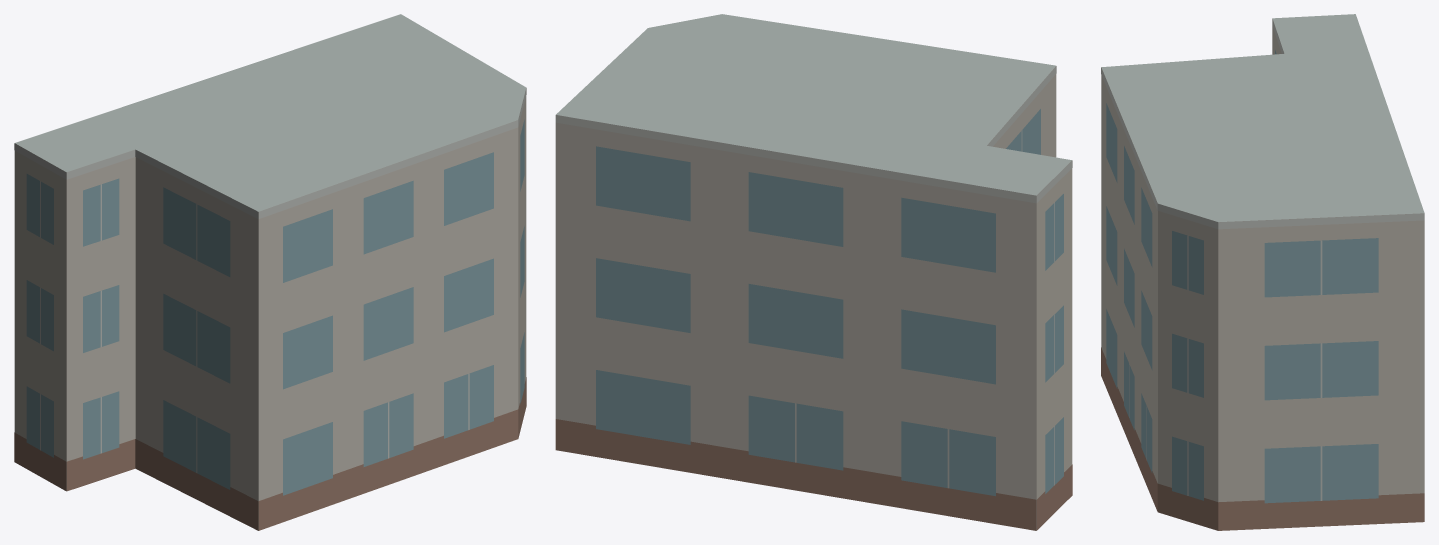
The model's file is survey-upis-32609861.glb.
3 views of the same model, side by side, from view 1: azimuth 30°, elevation 25°; view 2: azimuth 150°, elevation 25°; view 3: azimuth 270°, elevation 25° (orthographic). The views are drawn at different scales.
Visible parts, largest first — view 1: survey-upis-32609861.tmp; view 2: survey-upis-32609861.tmp; view 3: survey-upis-32609861.tmp.
Part boxes in pixels (<box>): survey-upis-32609861.tmp: <box>14,14,526,530</box>; survey-upis-32609861.tmp: <box>555,14,1072,530</box>; survey-upis-32609861.tmp: <box>1101,14,1424,530</box>.
Size of the model in its own units: 15.19 by 10.5 by 9.98.
